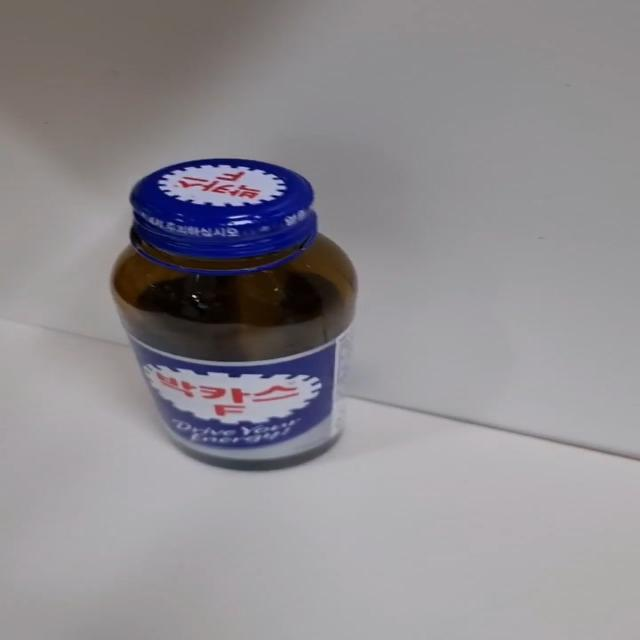Glass: (108, 158, 360, 474)
